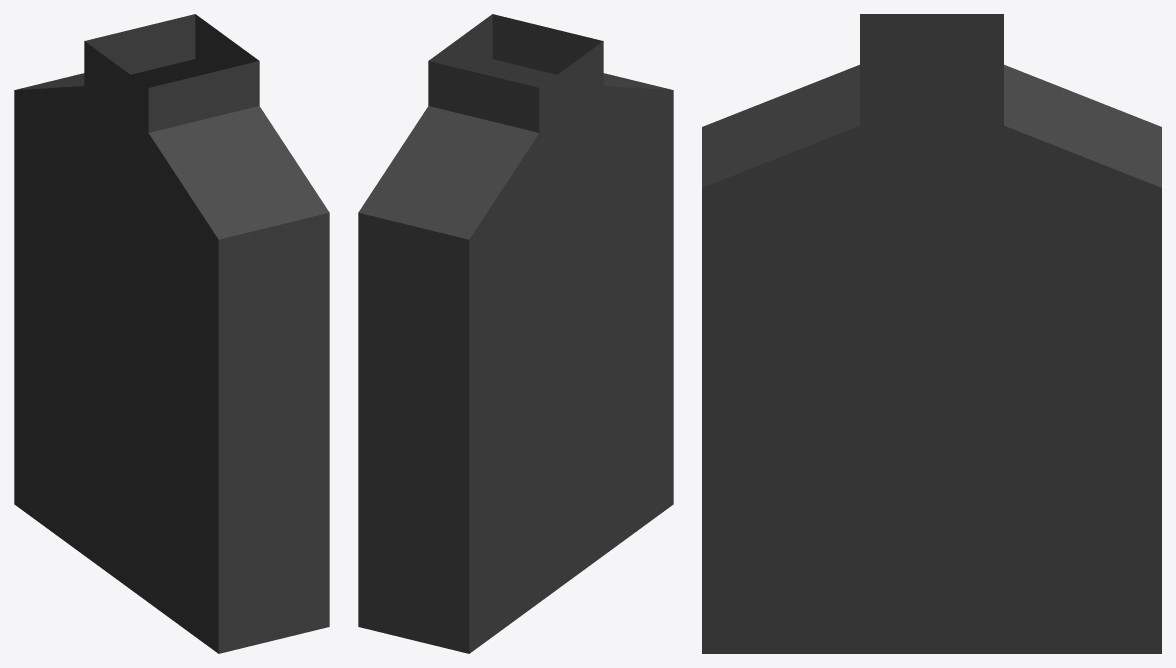
The model's file is body.obj.
The picture shows the model from 3 angles, left to right: view 1: azimuth 30°, elevation 25°; view 2: azimuth 150°, elevation 25°; view 3: azimuth 270°, elevation 25°; orthographic projection. The views are drawn at different scales.
Visible parts, largest first — view 1: body_Cube; view 2: body_Cube; view 3: body_Cube.
Part boxes in pixels (x1,y1,x2,y2): body_Cube: (14, 14, 329, 653); body_Cube: (358, 14, 673, 653); body_Cube: (702, 14, 1161, 653).
Size of the model in its own units: 1.06 by 4.71 by 3.39.
